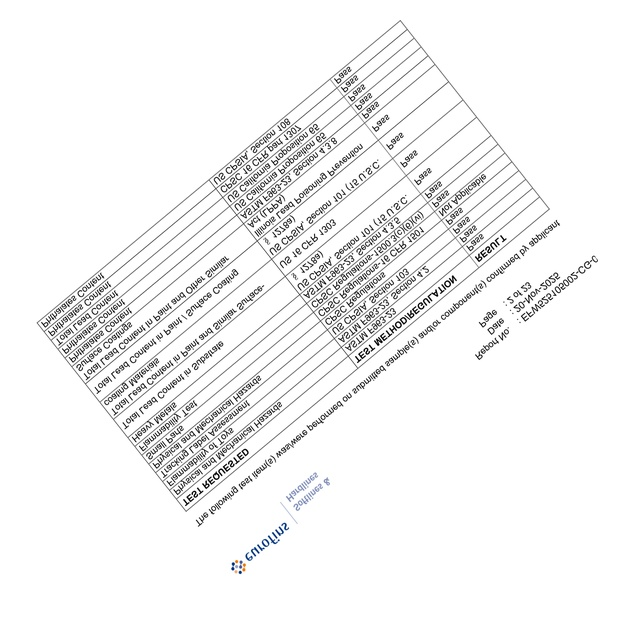eurofins: (222, 519, 290, 577)
